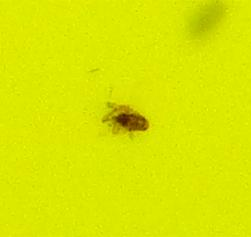Hemiptera: (100, 100, 151, 137)
